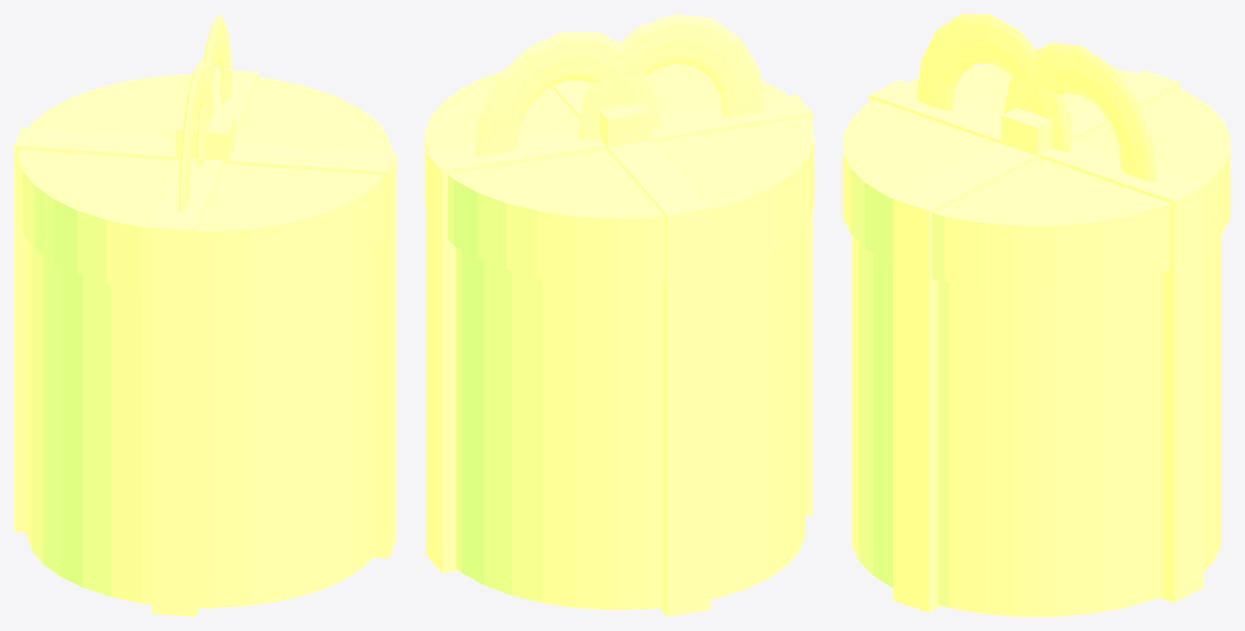
File: Tmpl_Round_Root_234.glb
3 views of the same model, side by side, from view 1: azimuth 30°, elevation 25°; view 2: azimuth 150°, elevation 25°; view 3: azimuth 270°, elevation 25° (orthographic). The views are drawn at different scales.
Visible parts, largest first — view 1: Tmpl_Round_Base.232, Tmpl_Round_Lid.232, Tmpl_Round_Ribbon_X.232, Tmpl_Round_Ribbon_Y.232, Tmpl_Round_BowL.232, Tmpl_Round_BowR.232, Tmpl_Round_BowKnot.232; view 2: Tmpl_Round_Base.232, Tmpl_Round_Lid.232, Tmpl_Round_Ribbon_Y.232, Tmpl_Round_Ribbon_X.232, Tmpl_Round_BowR.232, Tmpl_Round_BowL.232, Tmpl_Round_BowKnot.232; view 3: Tmpl_Round_Base.232, Tmpl_Round_Lid.232, Tmpl_Round_Ribbon_Y.232, Tmpl_Round_Ribbon_X.232, Tmpl_Round_BowR.232, Tmpl_Round_BowL.232, Tmpl_Round_BowKnot.232.
Part boxes in pixels (x1,y1,x2,y2): Tmpl_Round_Base.232: (27, 240, 375, 608); Tmpl_Round_Lid.232: (18, 74, 392, 295); Tmpl_Round_Ribbon_X.232: (152, 69, 258, 616); Tmpl_Round_Ribbon_Y.232: (14, 127, 396, 558); Tmpl_Round_BowL.232: (196, 14, 232, 166); Tmpl_Round_BowR.232: (178, 58, 213, 211); Tmpl_Round_BowKnot.232: (175, 111, 235, 163); Tmpl_Round_Base.232: (456, 227, 805, 610); Tmpl_Round_Lid.232: (425, 63, 814, 284); Tmpl_Round_Ribbon_Y.232: (552, 81, 710, 616); Tmpl_Round_Ribbon_X.232: (426, 95, 813, 573); Tmpl_Round_BowR.232: (578, 14, 765, 139); Tmpl_Round_BowL.232: (474, 31, 661, 156); Tmpl_Round_BowKnot.232: (599, 103, 651, 147); Tmpl_Round_Base.232: (852, 235, 1221, 616); Tmpl_Round_Lid.232: (843, 64, 1230, 291); Tmpl_Round_Ribbon_Y.232: (893, 70, 1180, 612); Tmpl_Round_Ribbon_X.232: (869, 80, 1204, 602); Tmpl_Round_BowR.232: (917, 14, 1071, 152); Tmpl_Round_BowL.232: (1004, 42, 1156, 182); Tmpl_Round_BowKnot.232: (1001, 107, 1072, 158).
Size of the model in its own units: 0.8013 by 1.17 by 0.8013.
